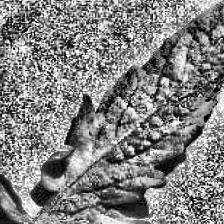Anthracnose Fruit Rot: (65, 143, 100, 173), (168, 38, 200, 70), (74, 114, 105, 135)
